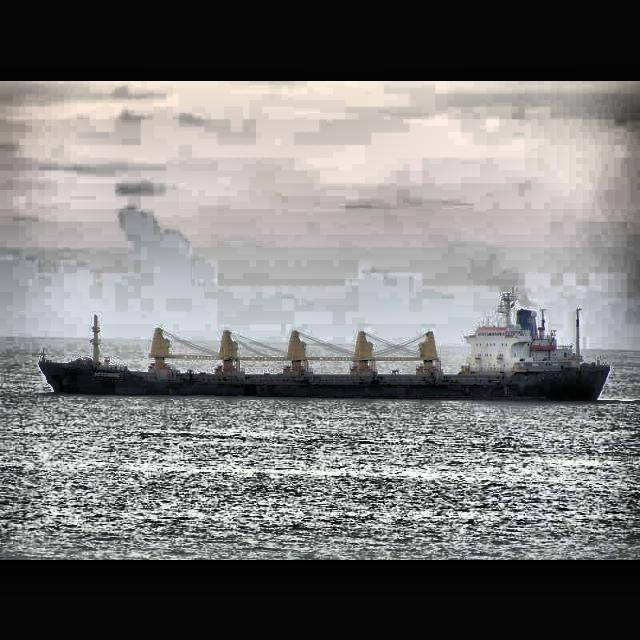bulk_carrier: (36, 285, 610, 401)
